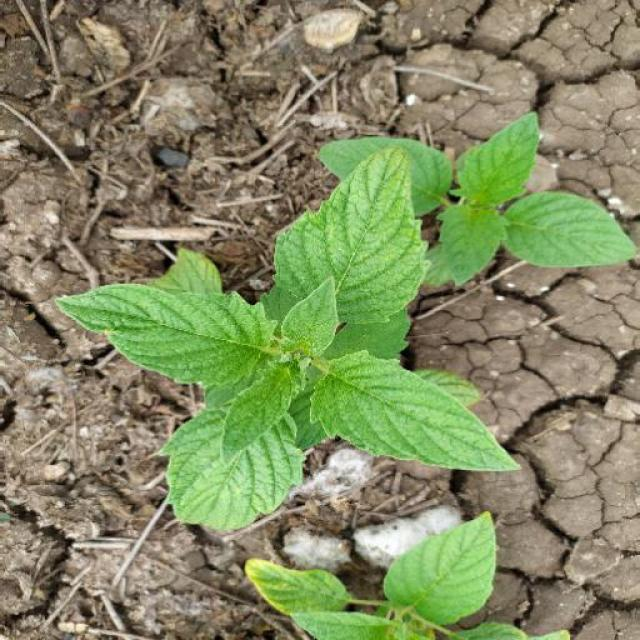crop: (41, 140, 556, 538)
